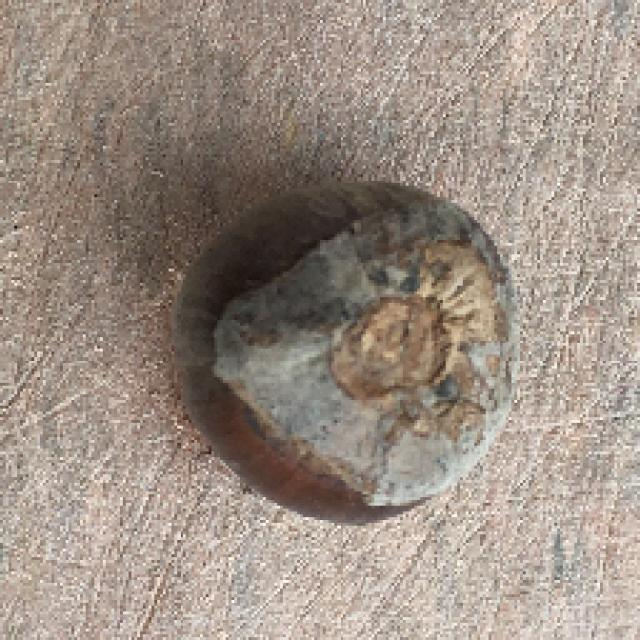damagedHazelnut: (172, 170, 518, 526)
